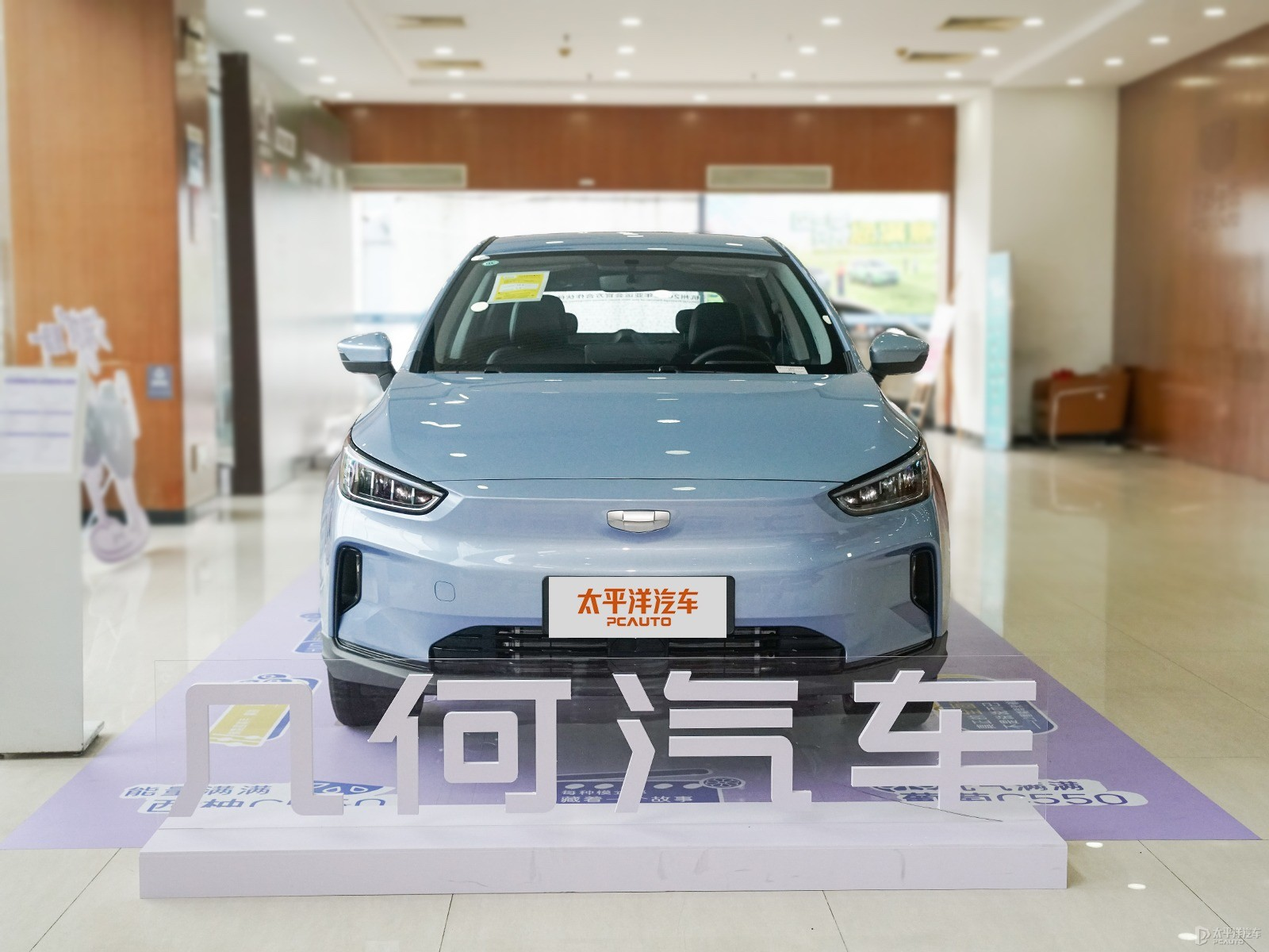GEOMETRY: (608, 511, 669, 532)
